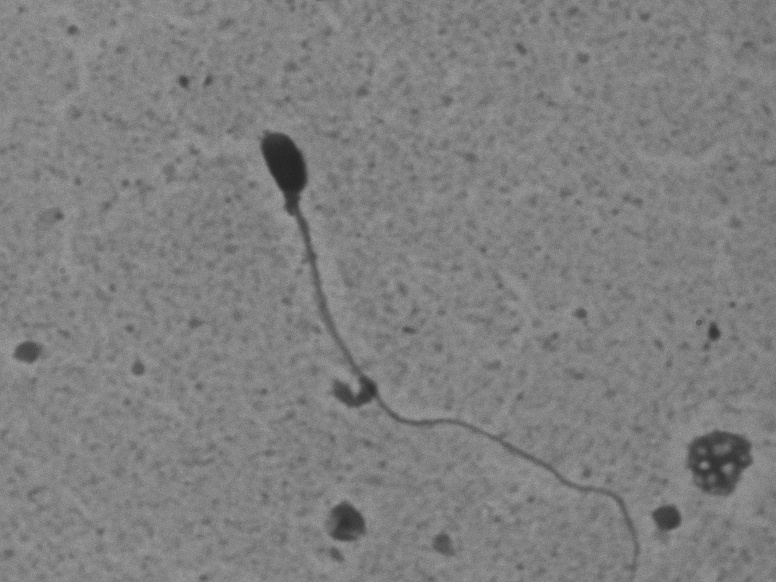Abnormal: (244, 117, 651, 572)
